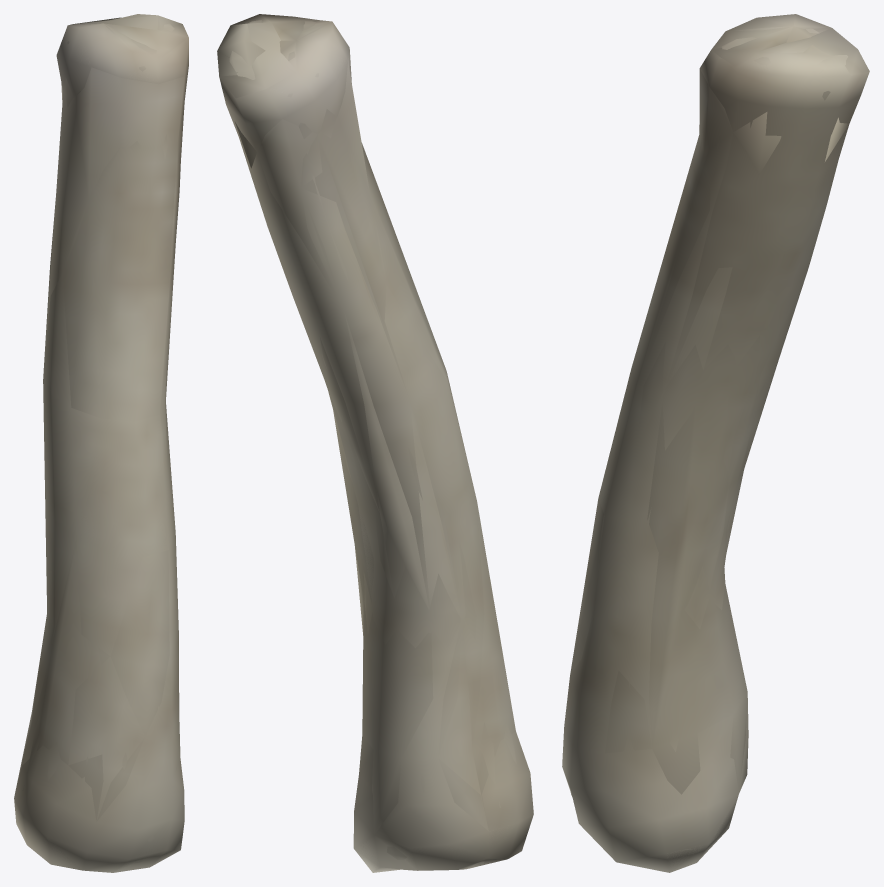
File: R metacarpi quartum.fbx
3 renders of one model, left to right at view 1: azimuth 30°, elevation 25°; view 2: azimuth 150°, elevation 25°; view 3: azimuth 270°, elevation 25°, orthographic. The views are drawn at different scales.
Parts seen in each view (by area): view 1: R metacarpi quartum, R metacarpi quartum low, R metacarpi quartum high; view 2: R metacarpi quartum, R metacarpi quartum low, R metacarpi quartum high; view 3: R metacarpi quartum, R metacarpi quartum low, R metacarpi quartum high.
Boxes of the visible parts, <box> form: R metacarpi quartum: <box>14,14,188,872</box>; R metacarpi quartum low: <box>14,15,188,871</box>; R metacarpi quartum high: <box>22,19,181,863</box>; R metacarpi quartum: <box>217,14,533,872</box>; R metacarpi quartum low: <box>219,14,531,872</box>; R metacarpi quartum high: <box>229,20,516,865</box>; R metacarpi quartum: <box>562,14,869,872</box>; R metacarpi quartum low: <box>570,14,869,870</box>; R metacarpi quartum high: <box>570,28,847,796</box>.
Size of the model in its own units: 0.4721 by 1.68 by 0.5479.
Materials: 1 (1 with a texture image).
